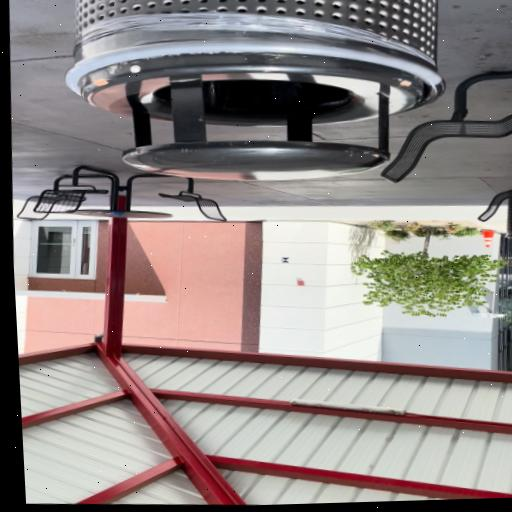target2: (280, 256, 290, 263)
